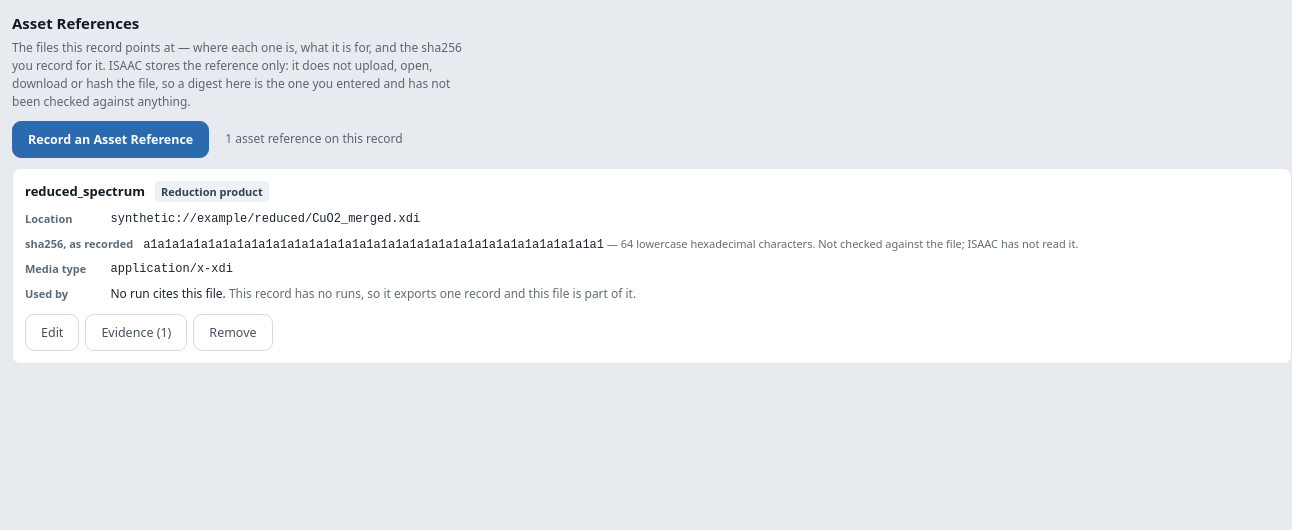
Scenario: every write › says a removal touches the reference and not the file
Check: the heading "reduced_spectrum" is shown, box [25,181,145,201]
Click the button "Remove" at [233, 332], box [193,314,273,351]
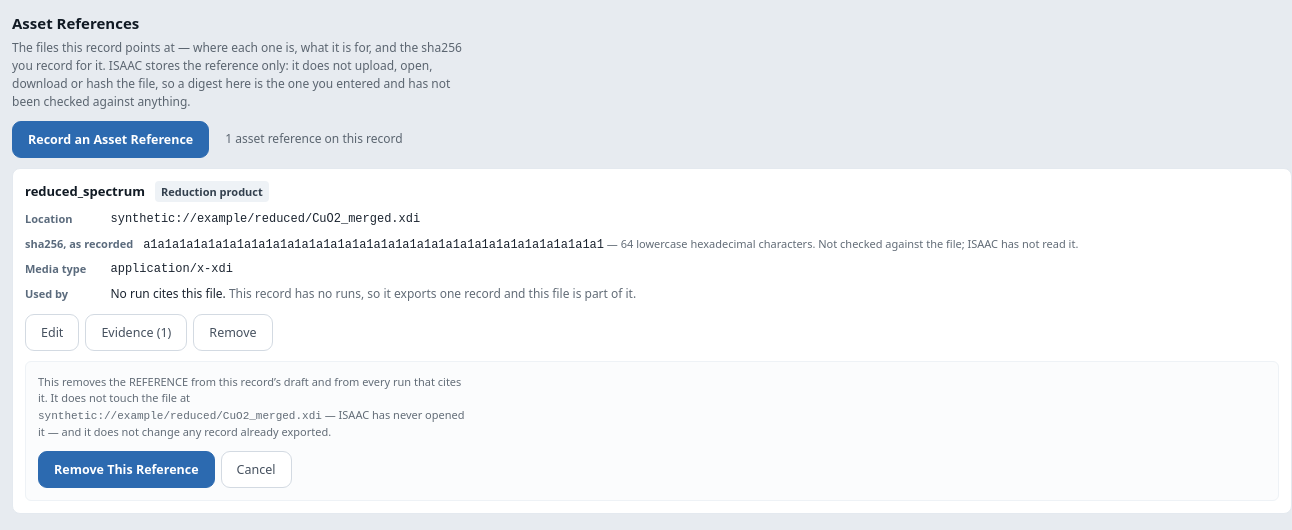
Check: the text "removes the REFERENCE" shows "ISAAC has never opened it", box [38,407,464,439]
Check: the text "removes the REFERENCE" shows "does not change any record already exported", box [38,407,464,439]
